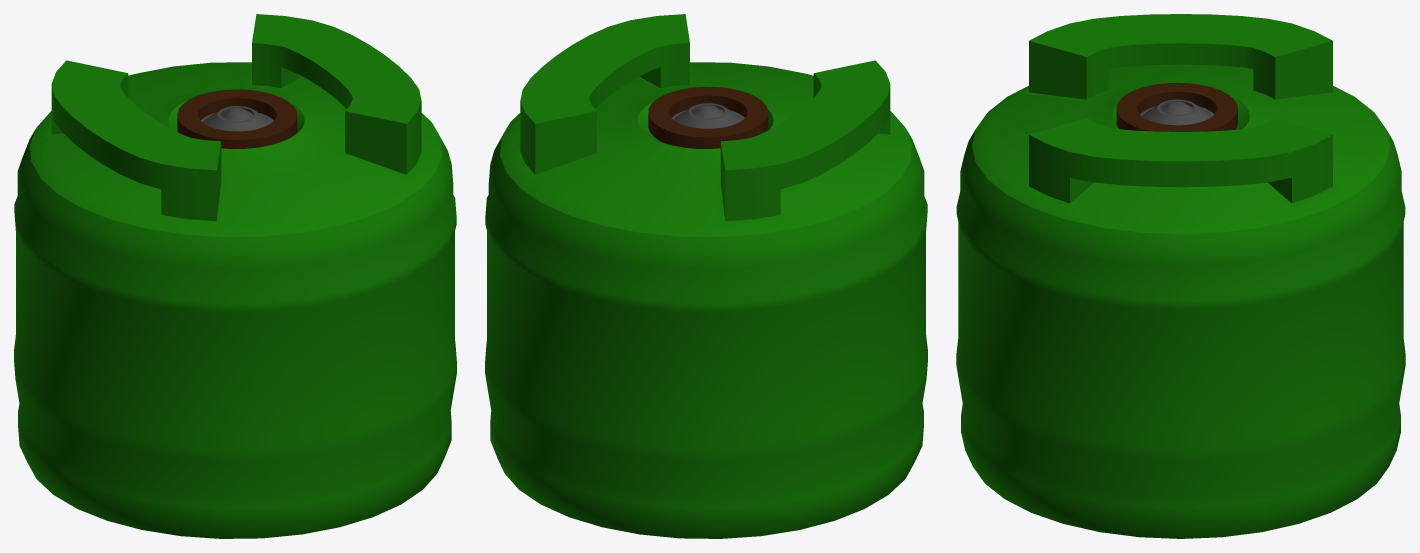
File: gas5.glb
The picture shows the model from 3 angles, left to right: view 1: azimuth 30°, elevation 25°; view 2: azimuth 150°, elevation 25°; view 3: azimuth 270°, elevation 25°; orthographic projection.
Parts seen in each view (by area): view 1: Gas5; view 2: Gas5; view 3: Gas5.
Part boxes in pixels (x1,y1,x2,y2): Gas5: [14, 14, 456, 538]; Gas5: [485, 14, 927, 538]; Gas5: [956, 14, 1405, 538].
Bounding box in the file's own units: 1.87 × 1.66 × 1.87.
